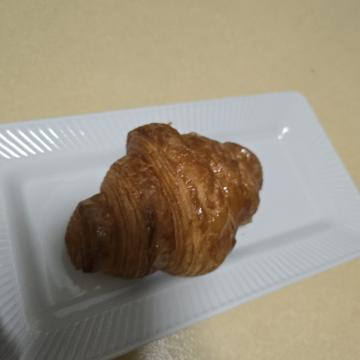croissant: (115, 87, 303, 304)
